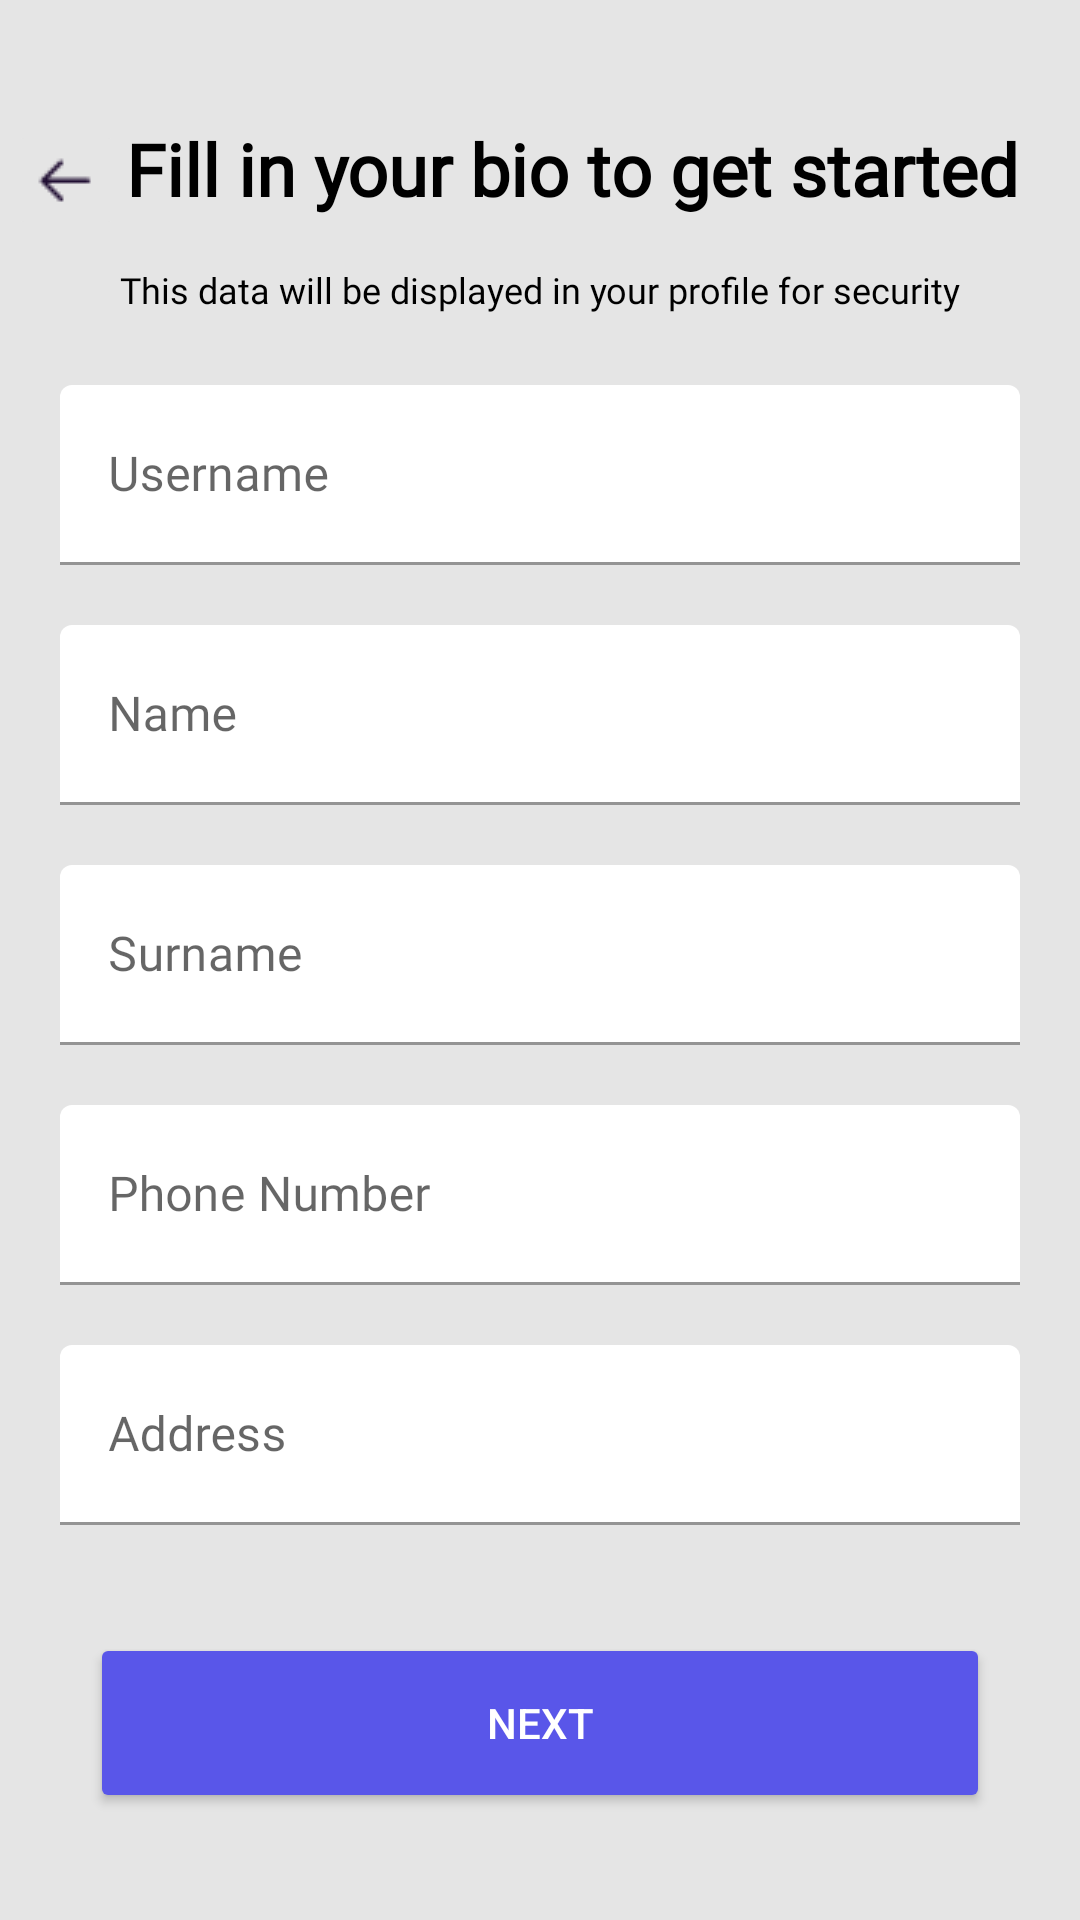

Where to tap for icons on this 1080 × 1920 app screen, as [x,y]:
profile arrow left: [64,180]
